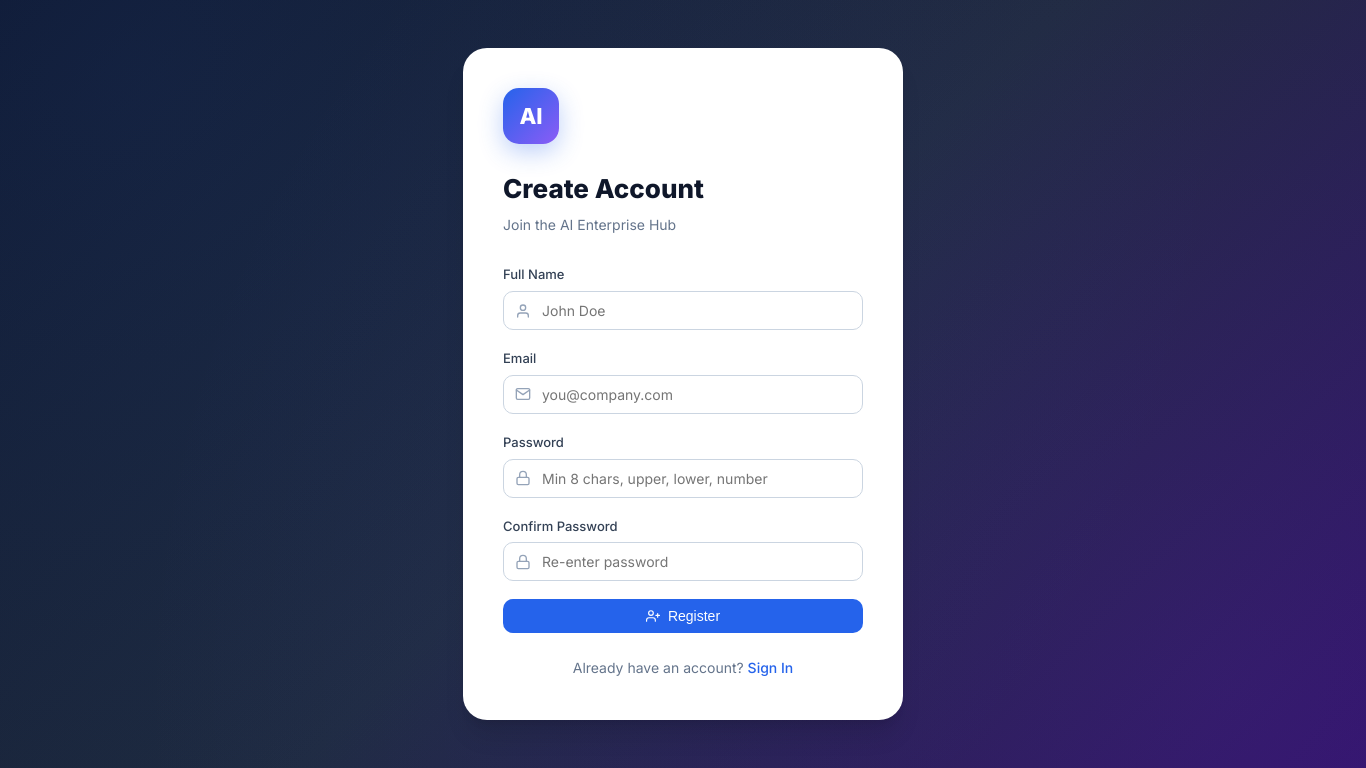
Authentication › should validate matching passwords on register
The image size is (1366, 768).
Type "Test User" into the field named "Full name".
click(683, 310); type("Test User")  # box [503,291,863,330]
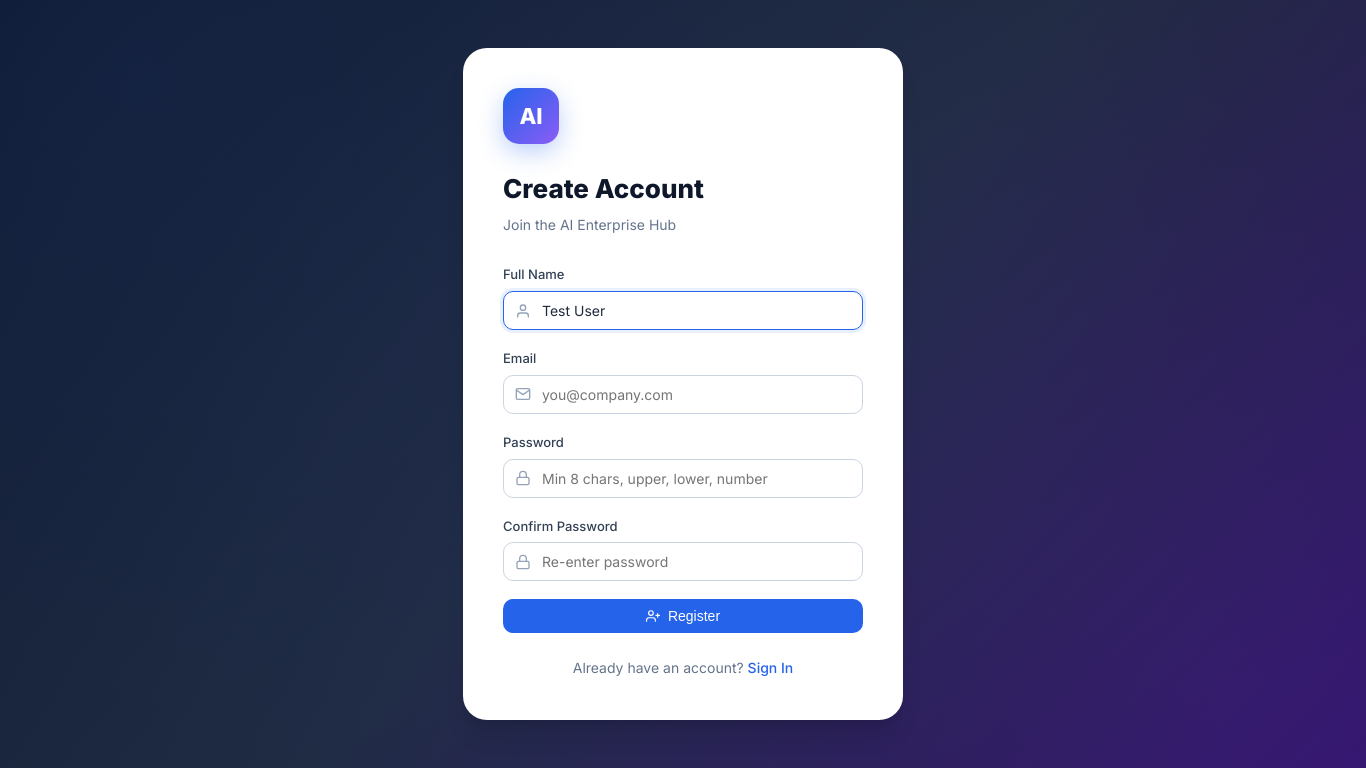
Type "test@example.com" into the field named "Email".
click(683, 394); type("test@example.com")  # box [503,375,863,414]
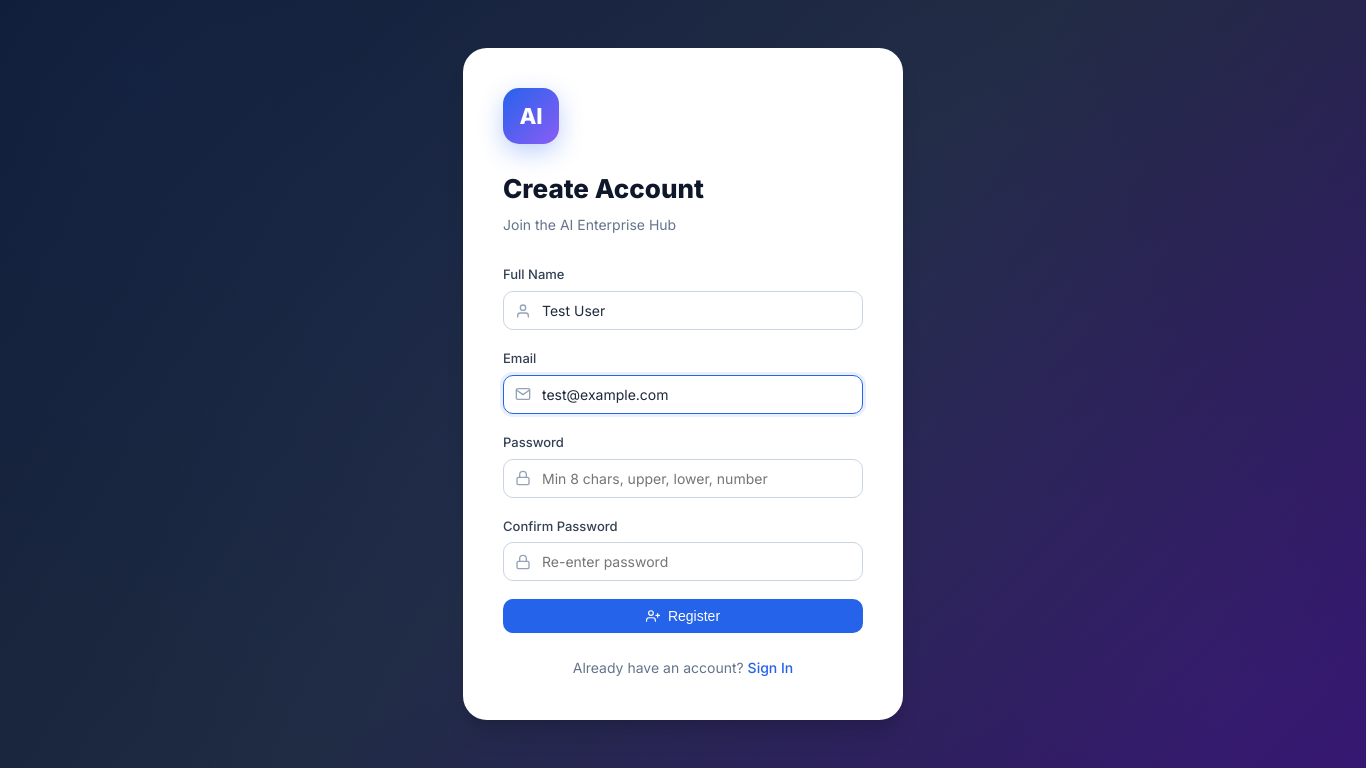
Type "Password123" into the password field named "Password".
click(683, 478); type("Password123")  # box [503,459,863,498]
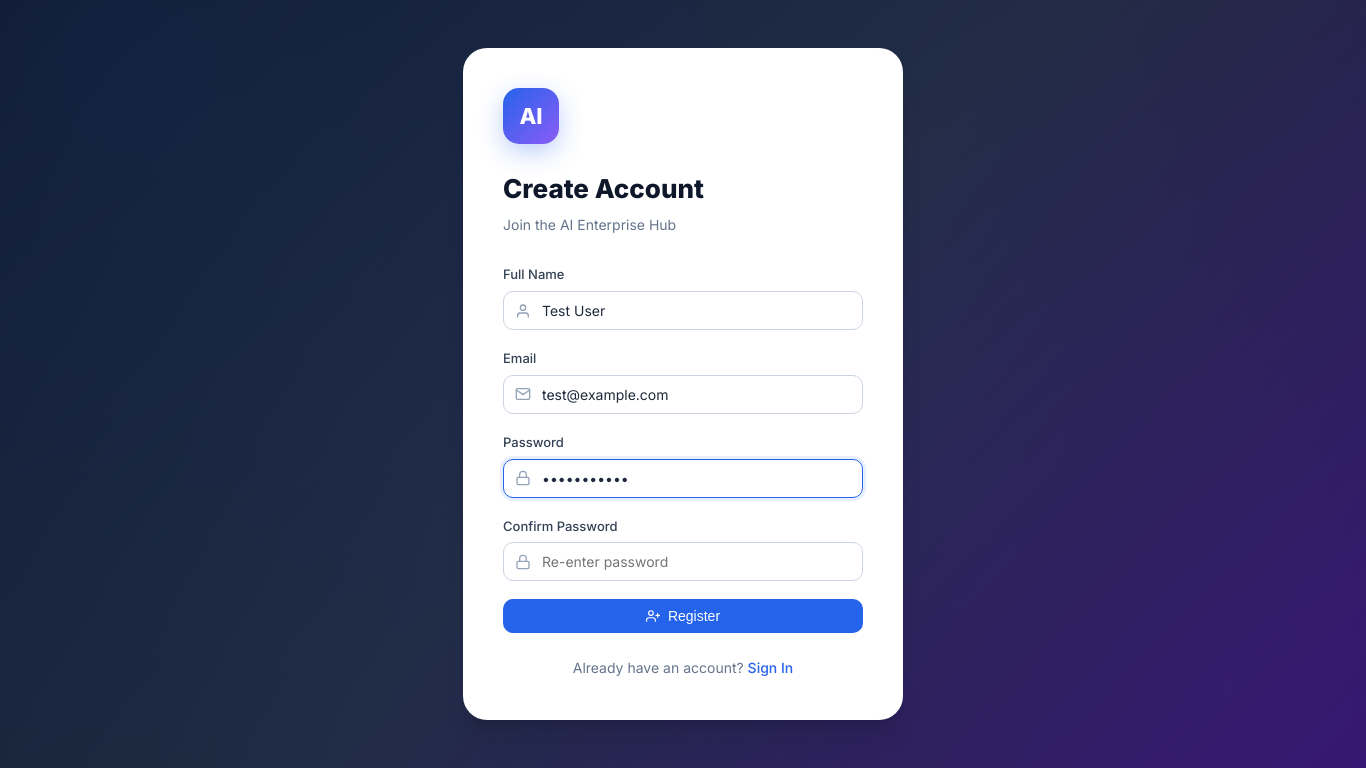
Type "Different123" into the password field named "Confirm password".
click(683, 562); type("Different123")  # box [503,542,863,581]
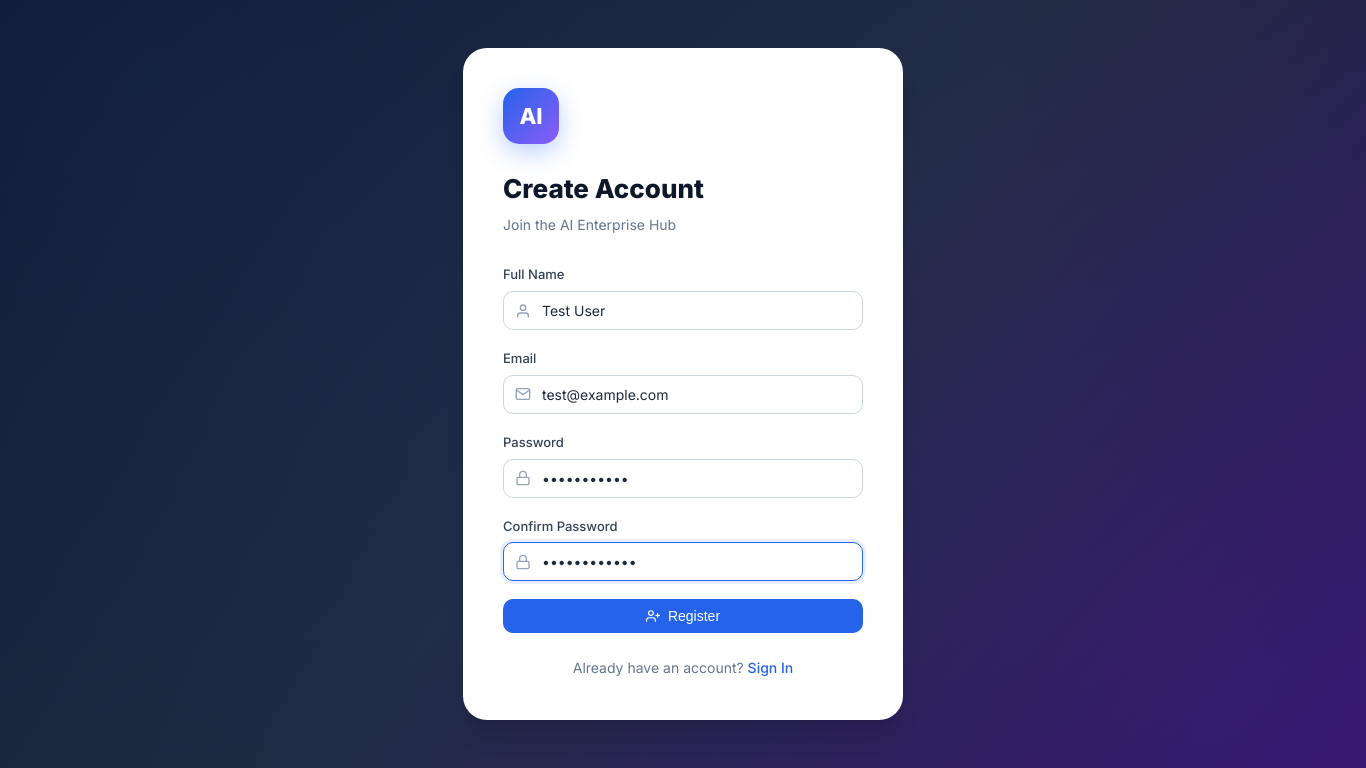
Click the button "Register".
click(683, 616)  # box [503,599,863,633]
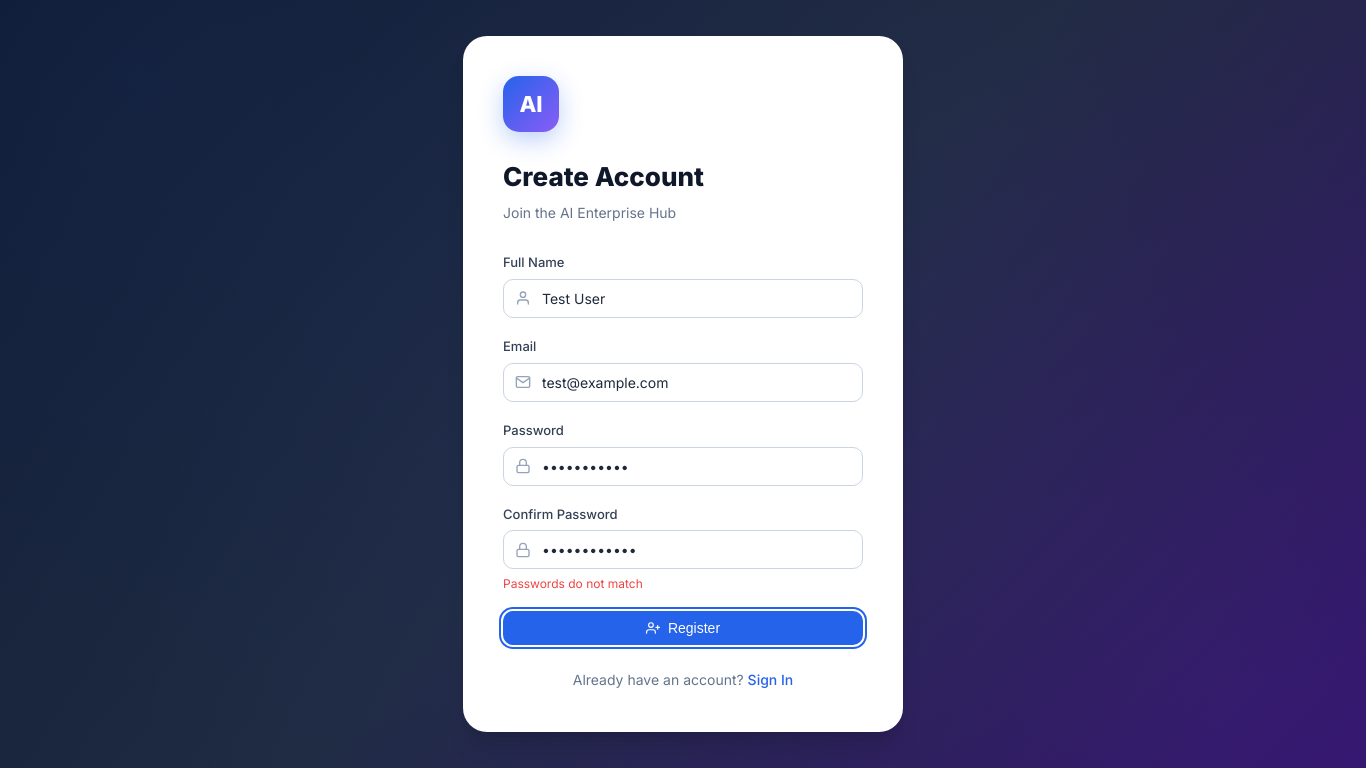
Expected: the text "Passwords do not match" is shown, [503,576,643,591]
